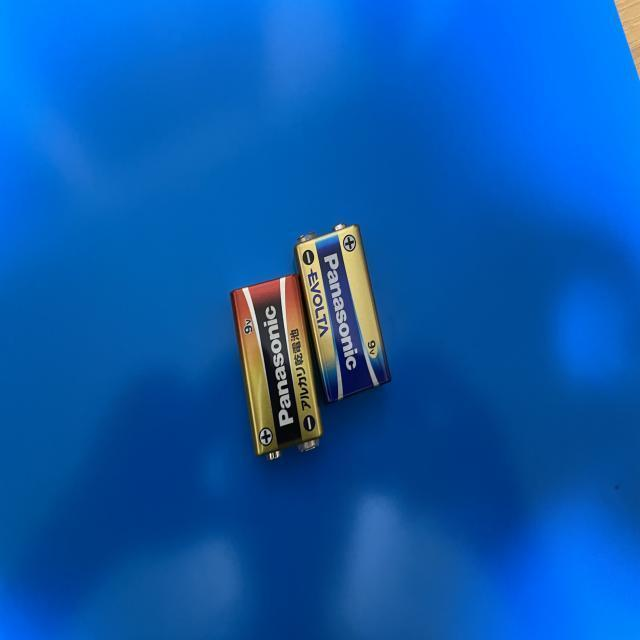9V: (293, 221, 391, 407), (228, 274, 324, 463)
